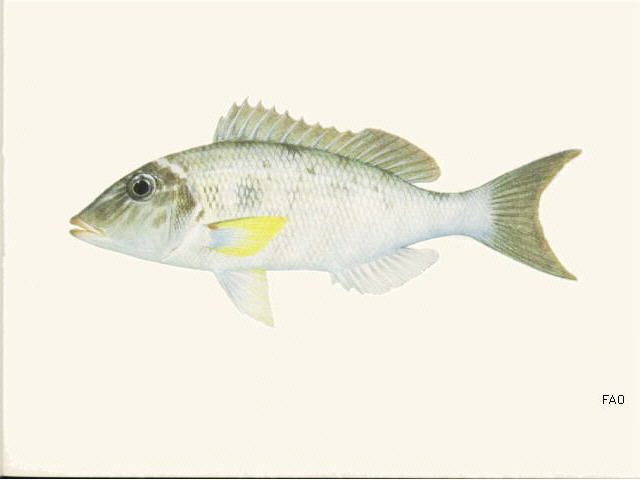fish: (68, 93, 587, 327)
